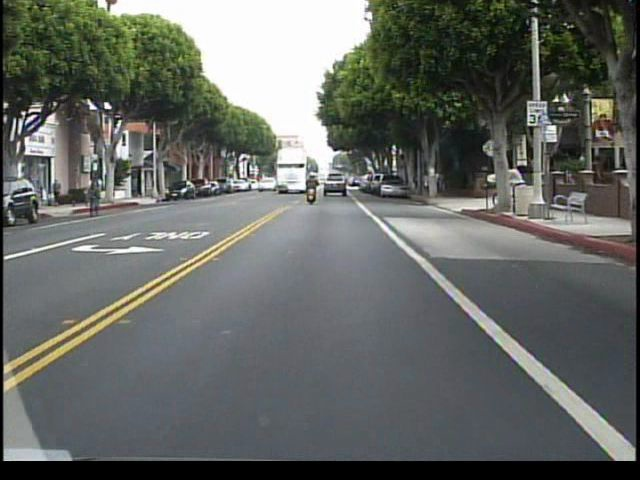person: (86, 172, 107, 213), (305, 169, 323, 209), (419, 168, 430, 198), (440, 168, 449, 195), (434, 170, 441, 194)
